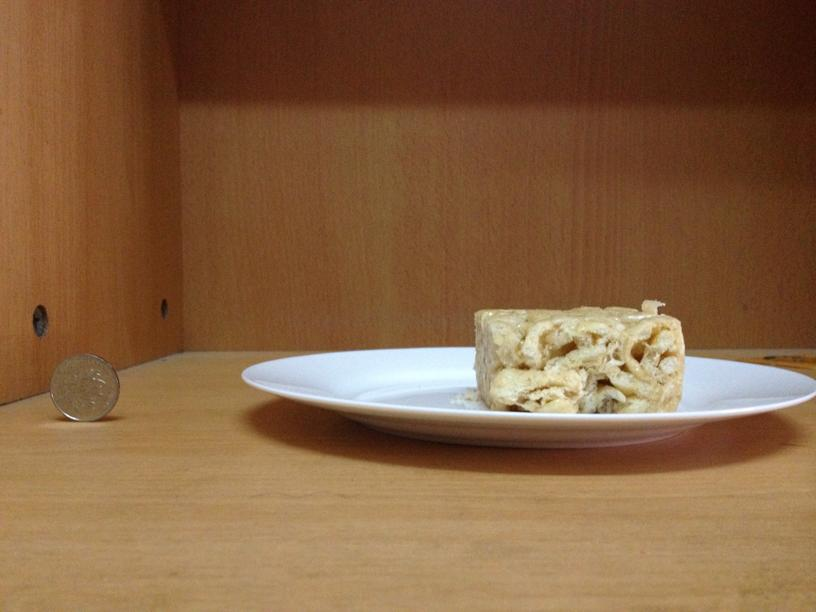coin: (51, 357, 119, 420)
sachima: (467, 304, 686, 419)
